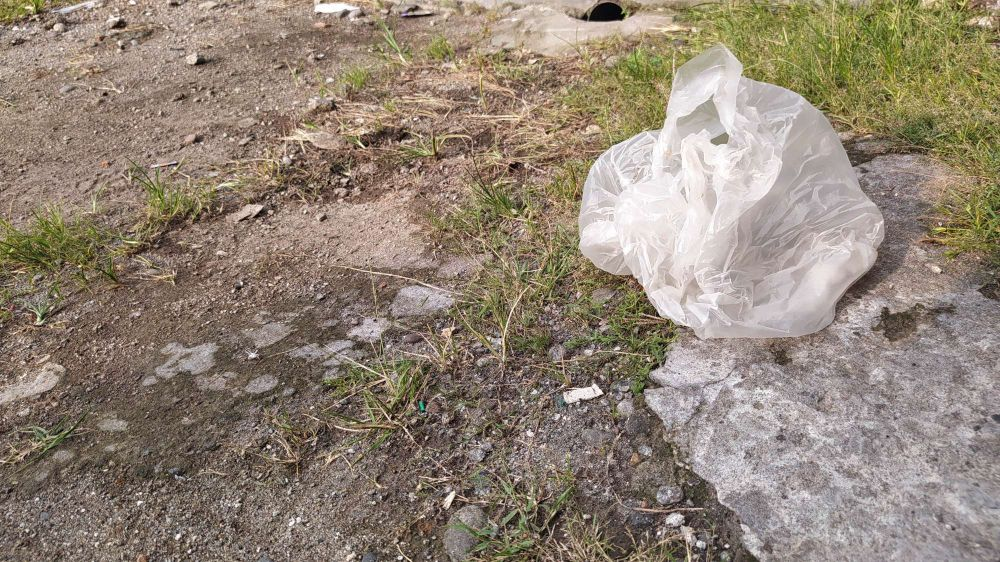plastik: (540, 52, 914, 338)
